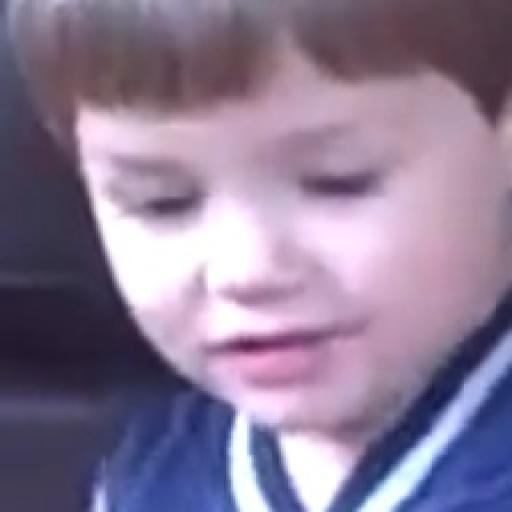Autism: (54, 37, 512, 456)
